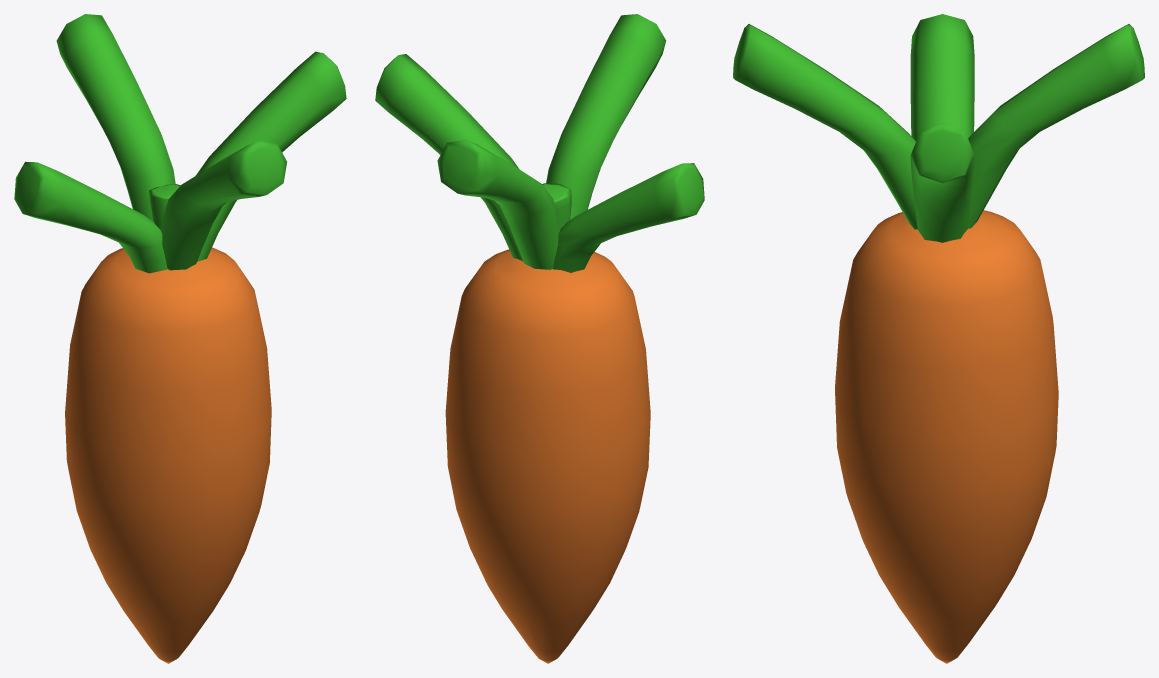
The model's file is 2ºFase_Zanahoria.fbx.
3 renders of one model, left to right at view 1: azimuth 30°, elevation 25°; view 2: azimuth 150°, elevation 25°; view 3: azimuth 270°, elevation 25°, orthographic. The views are drawn at different scales.
Visible parts, largest first — view 1: zanahoria, Cube.001, Cube, Cube.002, Cube.003, Cube.004; view 2: zanahoria, Cube, Cube.001, Cube.002, Cube.003, Cube.004; view 3: zanahoria, Cube, Cube.001, Cube.002, Cube.003.
Boxes of the visible parts, bbox=[...] form: zanahoria: bbox=[65, 247, 271, 663]; Cube.001: bbox=[56, 14, 175, 220]; Cube: bbox=[160, 140, 286, 270]; Cube.002: bbox=[14, 161, 167, 273]; Cube.003: bbox=[195, 51, 346, 261]; Cube.004: bbox=[148, 184, 180, 229]; zanahoria: bbox=[445, 249, 650, 663]; Cube: bbox=[546, 14, 666, 219]; Cube.001: bbox=[437, 139, 559, 269]; Cube.002: bbox=[553, 163, 704, 272]; Cube.003: bbox=[375, 54, 523, 261]; Cube.004: bbox=[542, 183, 571, 229]; zanahoria: bbox=[835, 210, 1058, 663]; Cube: bbox=[733, 24, 917, 229]; Cube.001: bbox=[967, 24, 1144, 228]; Cube.002: bbox=[910, 14, 974, 141]; Cube.003: bbox=[910, 122, 974, 242].
Size of the model in its own units: 66 by 118 by 68.87.
